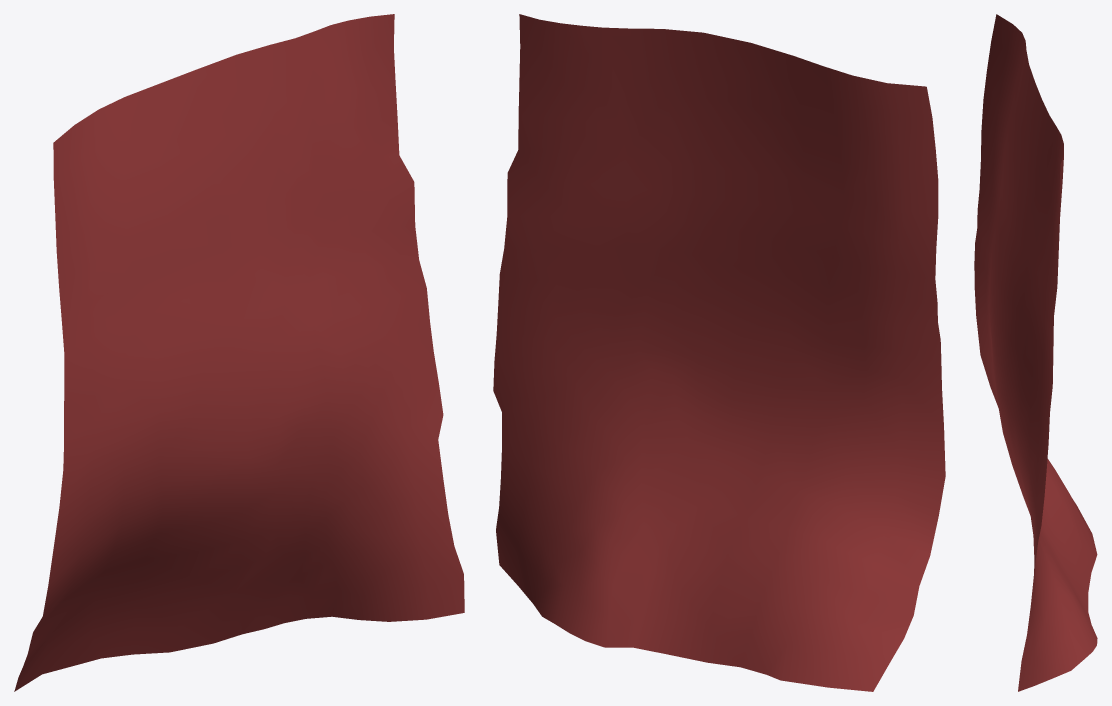
The model's file is popliteal-fascia-r.glb.
3 renders of one model, left to right at view 1: azimuth 30°, elevation 25°; view 2: azimuth 150°, elevation 25°; view 3: azimuth 270°, elevation 25°, orthographic. The views are drawn at different scales.
Visible parts, largest first — view 1: Popliteal fascia.r; view 2: Popliteal fascia.r; view 3: Popliteal fascia.r.
Part boxes in pixels (left/top/right/bottom): Popliteal fascia.r: left=14, top=14, right=464, bottom=691; Popliteal fascia.r: left=493, top=14, right=945, bottom=691; Popliteal fascia.r: left=974, top=14, right=1097, bottom=691.
Size of the model in its own units: 0.0714 by 0.0968 by 0.0204.
